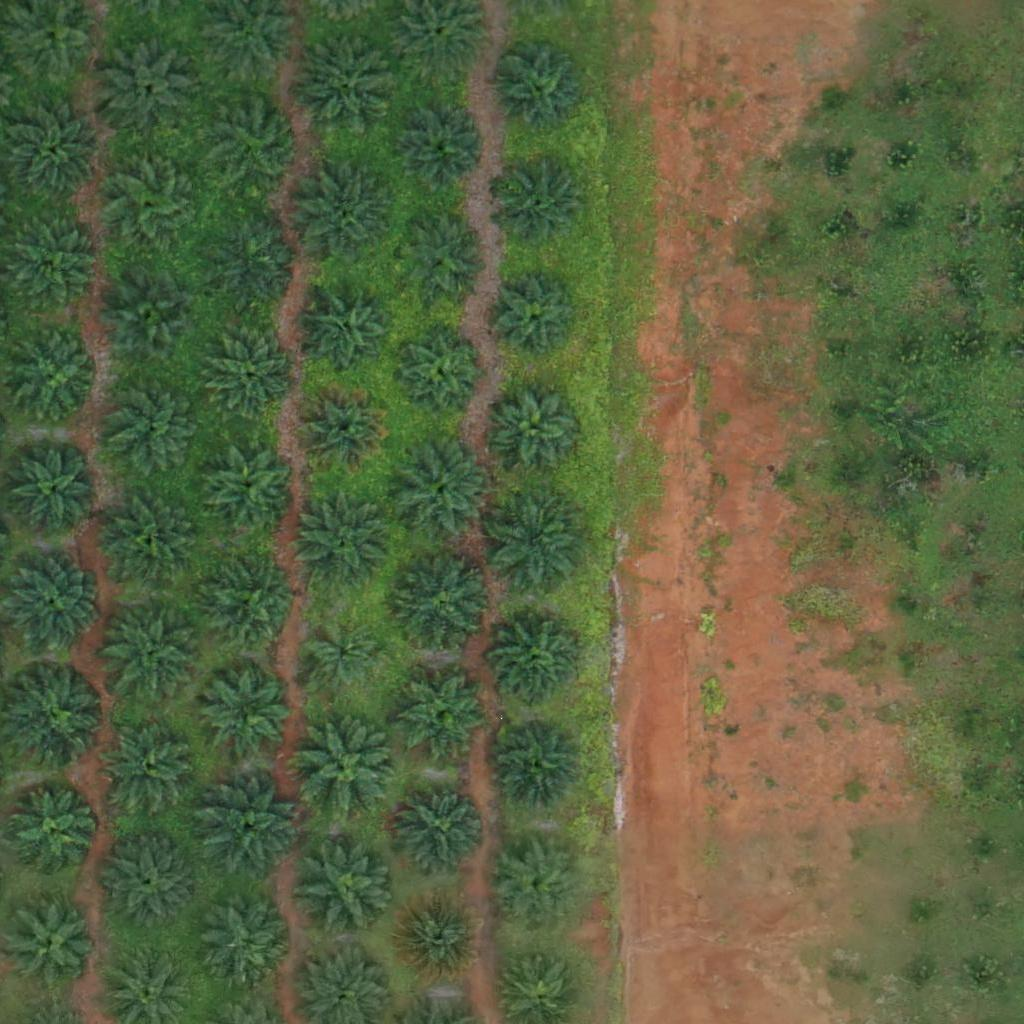Kelapa_Sawit: (4, 212, 104, 313), (294, 35, 394, 136), (295, 168, 395, 269), (489, 39, 589, 140), (299, 719, 399, 820), (199, 439, 299, 540), (200, 555, 300, 656), (198, 779, 298, 880), (105, 375, 205, 476), (102, 492, 202, 593), (101, 601, 201, 702), (100, 718, 200, 819), (98, 834, 198, 935), (1, 552, 101, 653), (6, 665, 106, 766), (297, 840, 397, 941), (98, 33, 198, 133), (207, 94, 307, 194), (206, 214, 306, 314), (484, 489, 584, 589), (389, 441, 489, 541), (391, 555, 491, 655), (294, 493, 394, 593), (105, 156, 193, 244), (108, 275, 196, 363), (395, 104, 483, 192), (497, 160, 585, 248), (493, 274, 581, 362), (494, 384, 582, 472), (401, 671, 489, 759), (395, 781, 483, 869), (208, 331, 296, 419), (8, 789, 96, 877), (8, 902, 96, 990), (395, 892, 483, 980), (12, 105, 99, 193), (399, 216, 486, 304), (304, 288, 391, 376), (494, 621, 581, 709), (495, 718, 582, 806), (494, 844, 581, 932), (396, 327, 483, 415), (300, 385, 387, 473), (203, 667, 290, 755), (8, 334, 95, 422), (11, 449, 98, 537), (210, 895, 297, 983), (306, 621, 381, 697)
